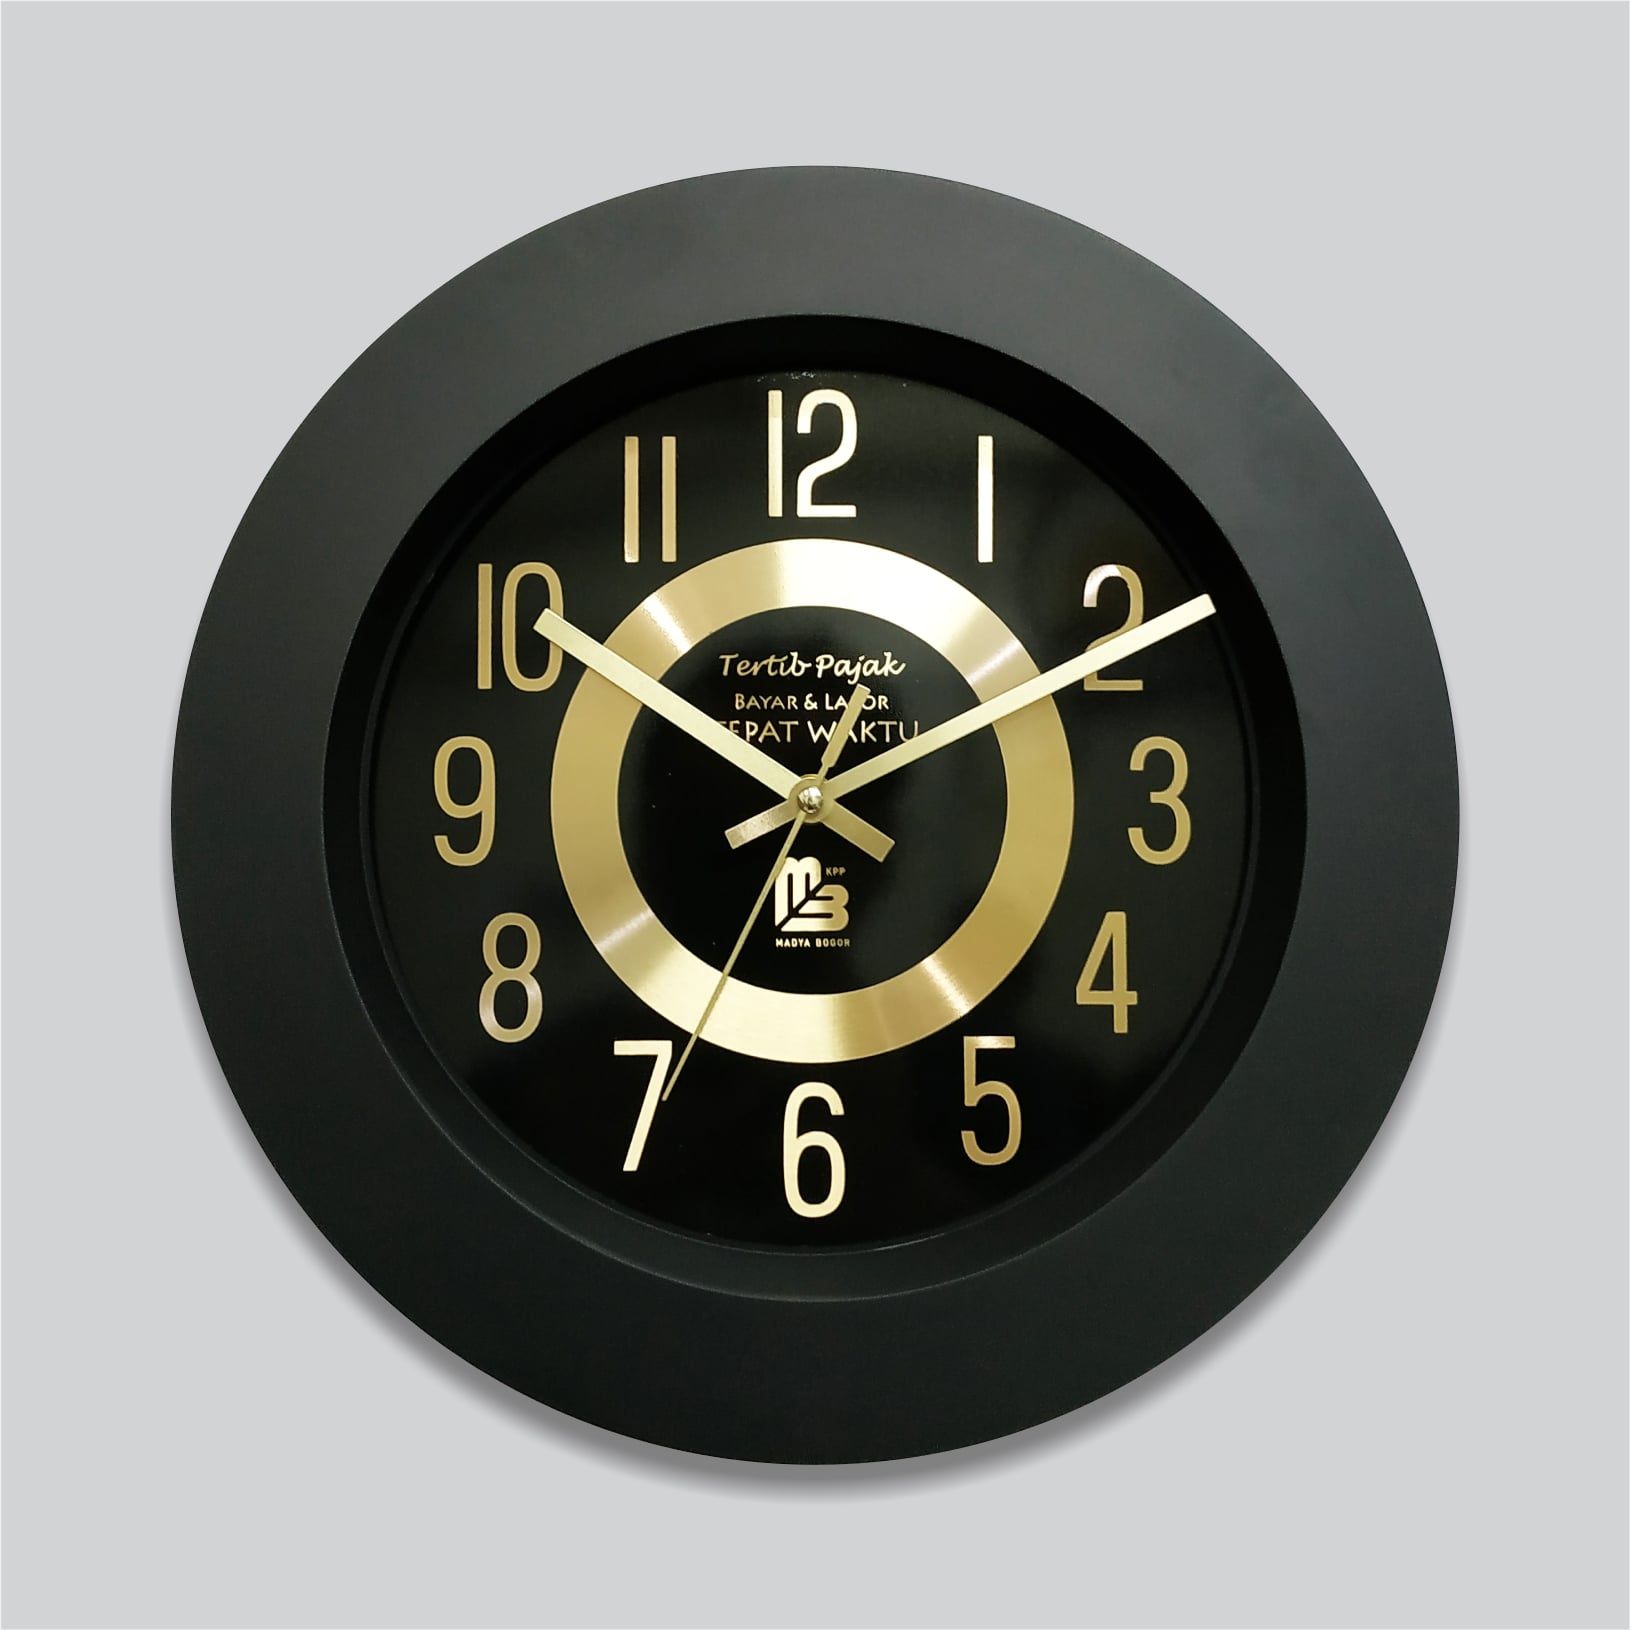jam dinding: (136, 149, 1495, 1512)
